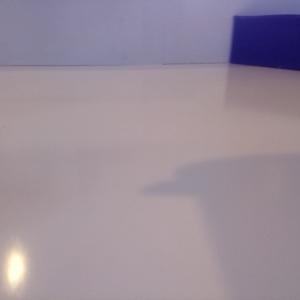zone: (229, 15, 300, 70)
